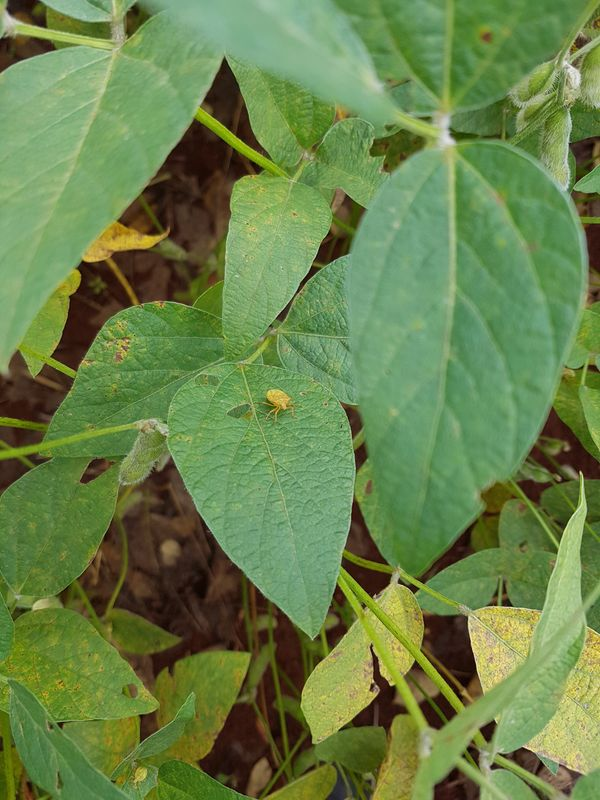Euschistus_heros_ninfa: (250, 376, 305, 428)
